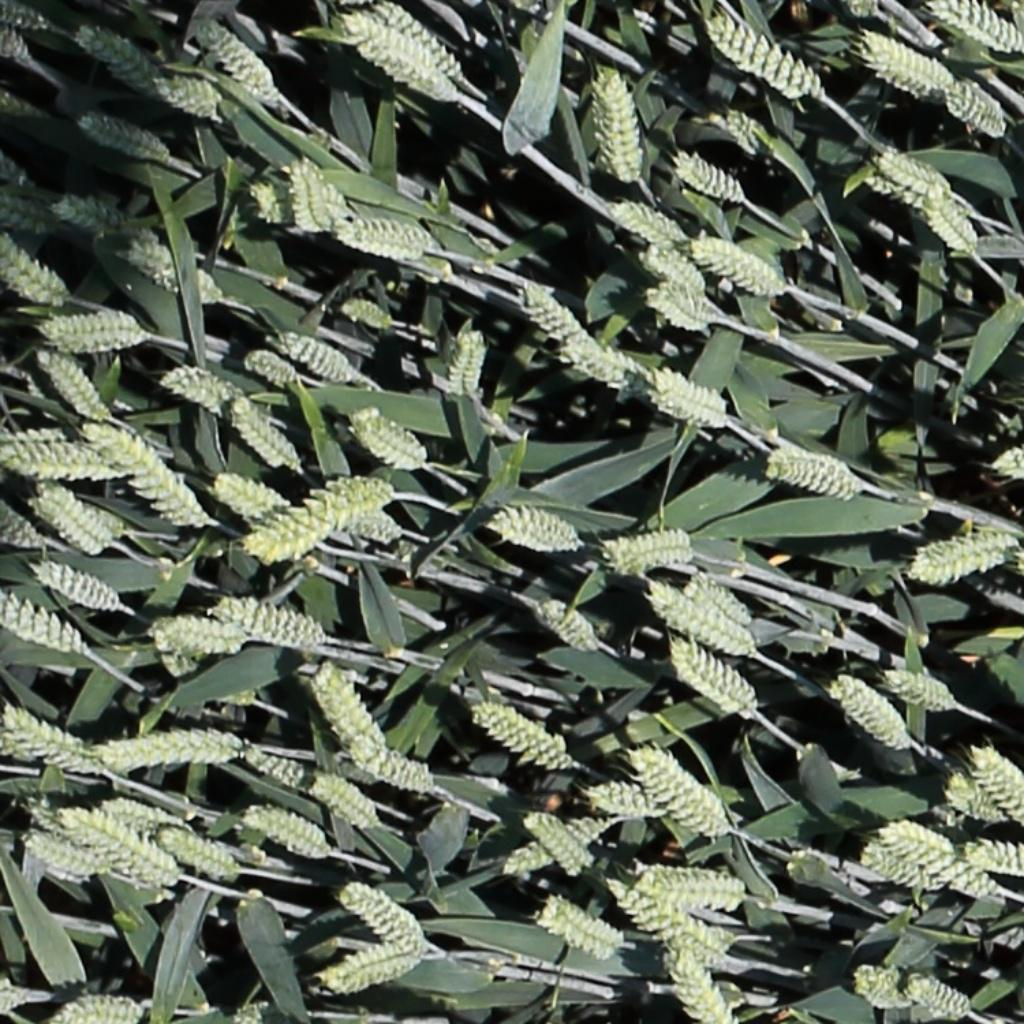0-0: (244, 474, 402, 567), (81, 417, 204, 525), (555, 334, 695, 411), (604, 877, 733, 958), (704, 16, 823, 99), (876, 819, 995, 901), (58, 813, 180, 885), (630, 750, 729, 838), (647, 584, 750, 659), (368, 0, 462, 80), (309, 660, 386, 757), (338, 881, 440, 954), (904, 524, 1024, 586), (193, 17, 277, 103), (585, 64, 643, 188), (532, 897, 631, 968), (2, 704, 100, 774), (95, 727, 245, 772), (224, 388, 300, 473), (517, 281, 603, 356), (349, 35, 453, 96), (499, 819, 612, 875), (472, 704, 567, 770), (862, 28, 950, 99), (828, 674, 909, 750), (30, 344, 106, 424), (670, 643, 755, 714), (316, 939, 424, 992), (765, 448, 866, 504), (689, 236, 783, 293), (664, 942, 729, 1024), (0, 595, 84, 658), (128, 240, 214, 301), (344, 16, 436, 73), (72, 24, 155, 86), (485, 503, 584, 554), (632, 861, 744, 906), (35, 488, 109, 554), (0, 233, 68, 303), (929, 1, 1024, 51), (220, 594, 322, 640), (344, 740, 430, 794), (520, 813, 589, 880), (973, 746, 1024, 836), (286, 154, 345, 231), (73, 110, 167, 158), (0, 440, 112, 480), (31, 562, 120, 611), (349, 409, 424, 466), (327, 221, 431, 262), (585, 774, 669, 824), (918, 184, 977, 255), (238, 811, 327, 858), (602, 527, 692, 573), (271, 330, 353, 380), (158, 364, 237, 415), (43, 310, 148, 348), (150, 611, 244, 653), (944, 81, 1009, 139), (160, 832, 238, 880), (637, 243, 707, 296), (670, 151, 745, 200), (21, 835, 94, 885), (901, 971, 972, 1021), (648, 370, 726, 415), (535, 600, 598, 655), (312, 775, 376, 829), (860, 845, 935, 890), (240, 746, 311, 793), (684, 576, 750, 626), (643, 285, 712, 332), (607, 200, 679, 243), (882, 670, 957, 711), (876, 150, 948, 192), (940, 779, 1004, 826), (144, 621, 192, 682), (54, 195, 136, 230), (50, 995, 147, 1024), (865, 171, 937, 210), (212, 475, 285, 512), (449, 323, 481, 404), (0, 495, 46, 550), (150, 76, 217, 113), (967, 838, 1024, 878), (244, 172, 283, 226), (96, 797, 174, 823), (240, 349, 296, 385), (854, 969, 905, 1007), (0, 195, 53, 230), (0, 19, 35, 69), (337, 299, 390, 326), (0, 1, 47, 28), (995, 456, 1024, 487), (229, 1003, 263, 1024)
